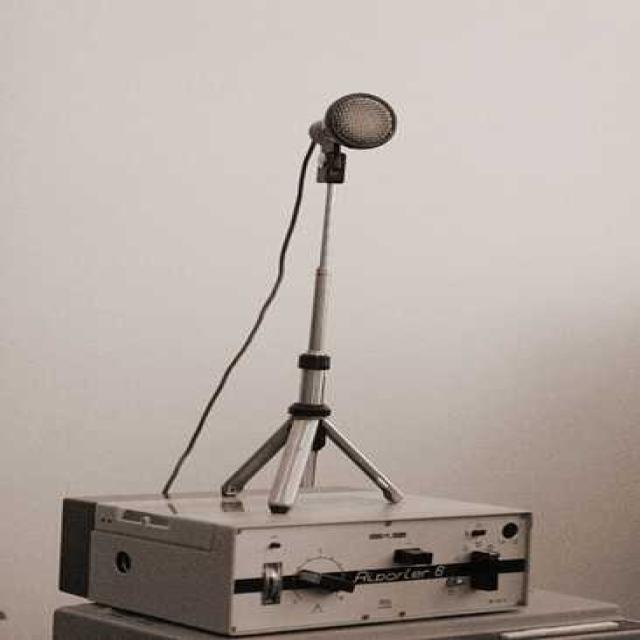microphone: (309, 94, 396, 184)
